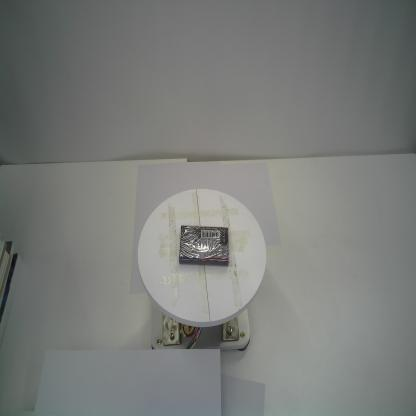Gum: (178, 224, 230, 267)
